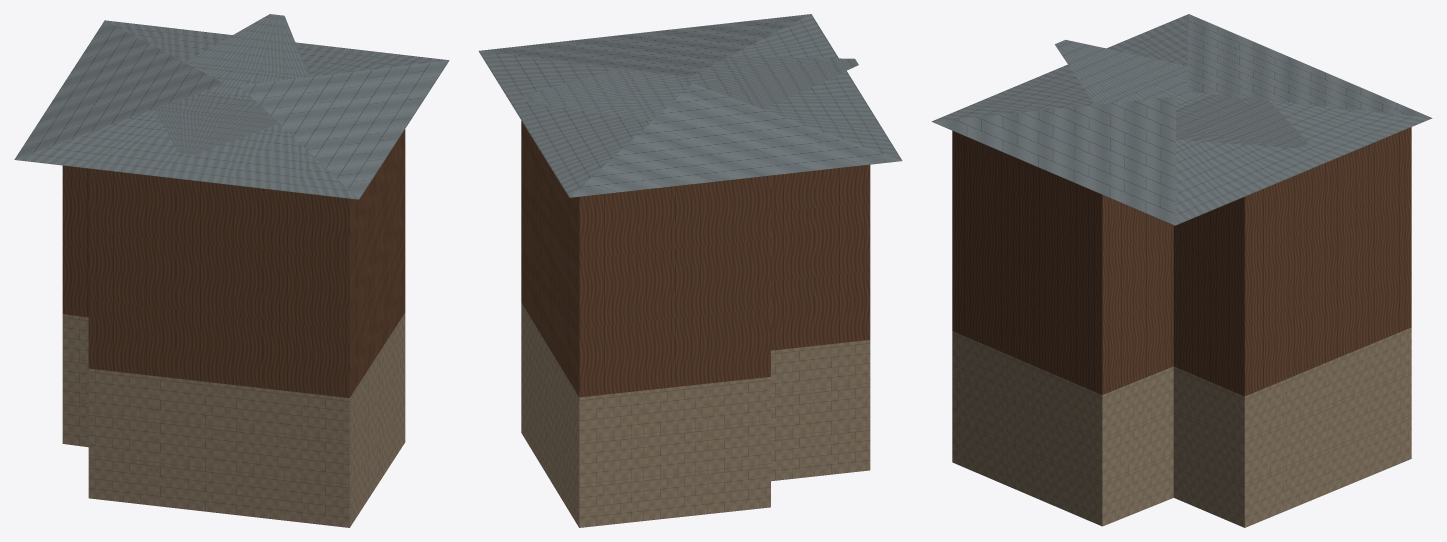
The model's file is bld_c20_30_373.gltf.
3 renders of one model, left to right at view 1: azimuth 30°, elevation 25°; view 2: azimuth 150°, elevation 25°; view 3: azimuth 270°, elevation 25°, orthographic.
Parts seen in each view (by area): view 1: bld_c20_30_373; view 2: bld_c20_30_373; view 3: bld_c20_30_373.
Boxes of the visible parts, x1,y1,x2,y2 form: bld_c20_30_373: [14, 14, 449, 527]; bld_c20_30_373: [478, 14, 902, 527]; bld_c20_30_373: [931, 14, 1432, 527].
Size of the model in its own units: 17.62 by 14.2 by 17.63.
3 materials, 3 textured.
